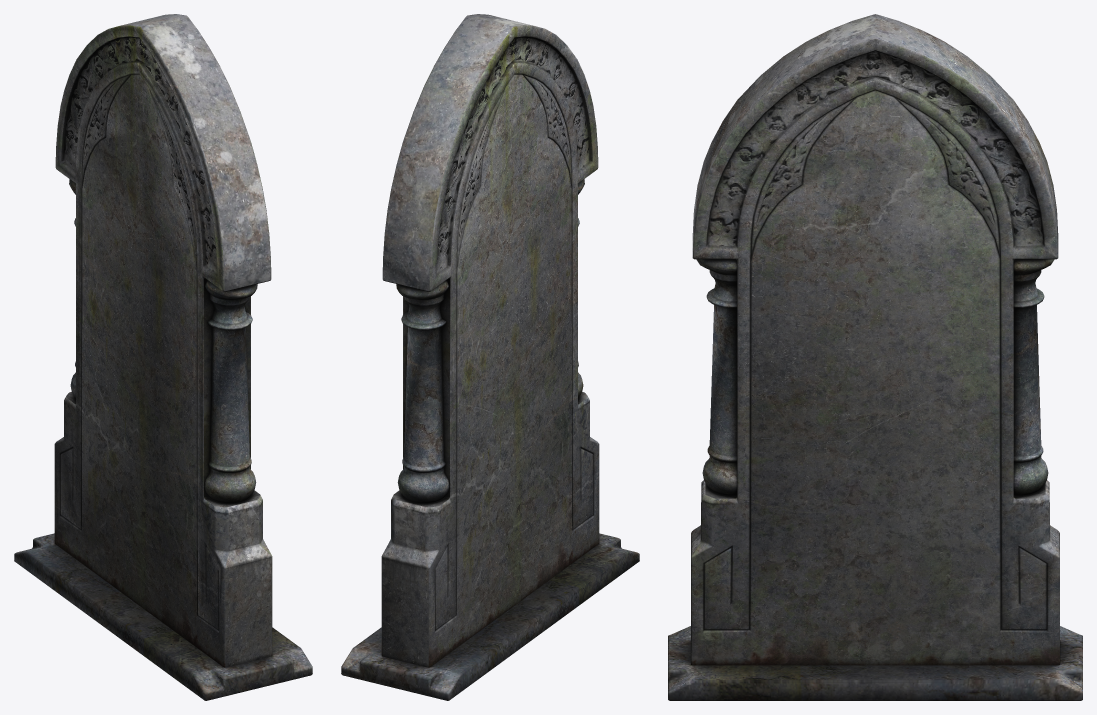
File: gravestone_01.fbx
3 renders of one model, left to right at view 1: azimuth 30°, elevation 25°; view 2: azimuth 150°, elevation 25°; view 3: azimuth 270°, elevation 25°, orthographic. The views are drawn at different scales.
Parts seen in each view (by area): view 1: gravestone1; view 2: gravestone1; view 3: gravestone1.
Part boxes in pixels (bbox=[...]): gravestone1: bbox=[14, 14, 312, 700]; gravestone1: bbox=[341, 14, 639, 700]; gravestone1: bbox=[668, 14, 1082, 700].
Size of the model in its own units: 43.79 by 231 by 134.
1 material, 1 textured.
